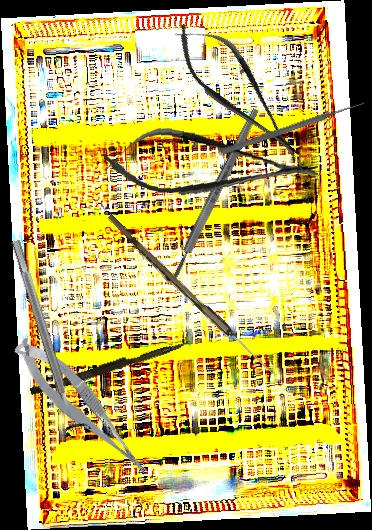Fixation Ring: (0, 235, 94, 439)
Micro Scissor: (161, 7, 317, 177), (9, 326, 154, 491), (101, 121, 321, 210)
Pusher: (29, 334, 190, 400), (220, 98, 367, 157)
Scalpel Handle: (167, 107, 262, 284)
Surgical Spoon: (103, 214, 278, 377)
